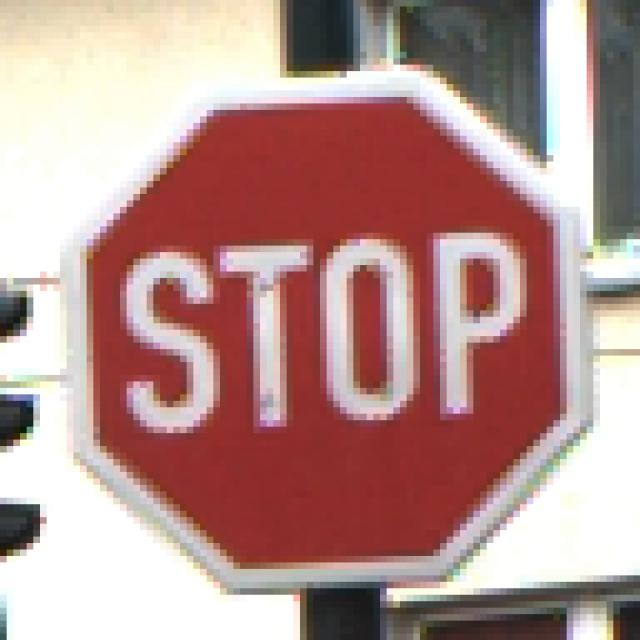STOP: (61, 59, 588, 589)
